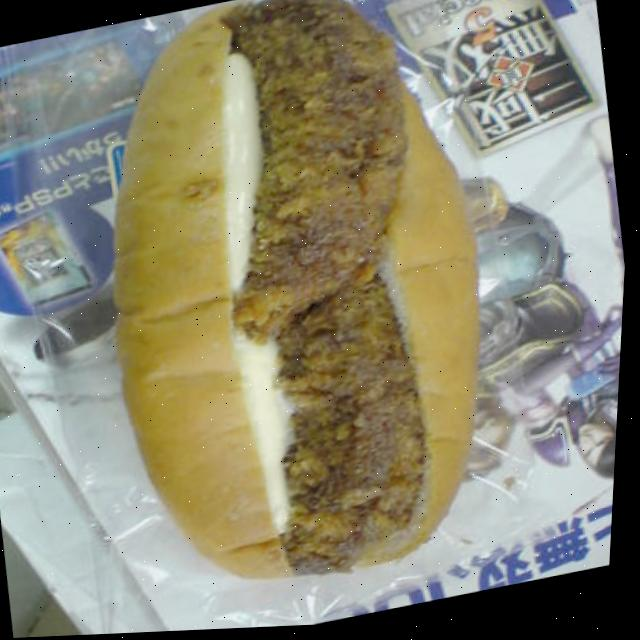三明治: (64, 0, 563, 599)
